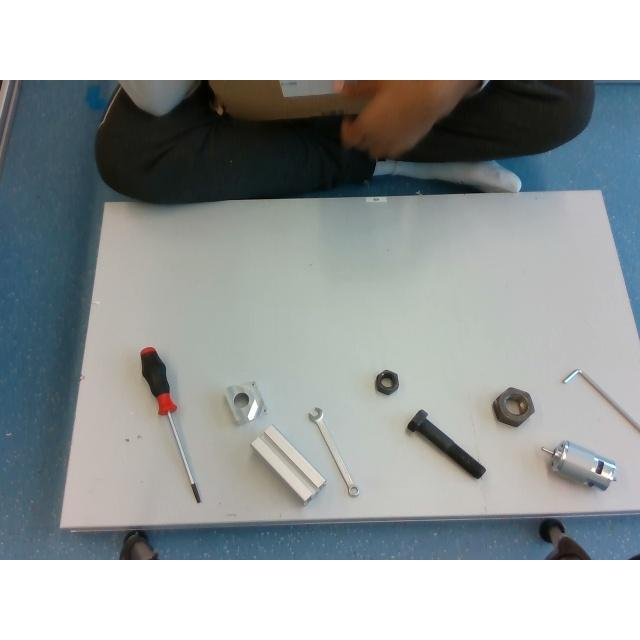M20: (374, 370, 398, 394)
M20_100: (407, 410, 485, 478)
M30: (494, 386, 534, 426)
Motor2: (541, 442, 617, 491)
S40_40_G: (252, 425, 324, 503)
